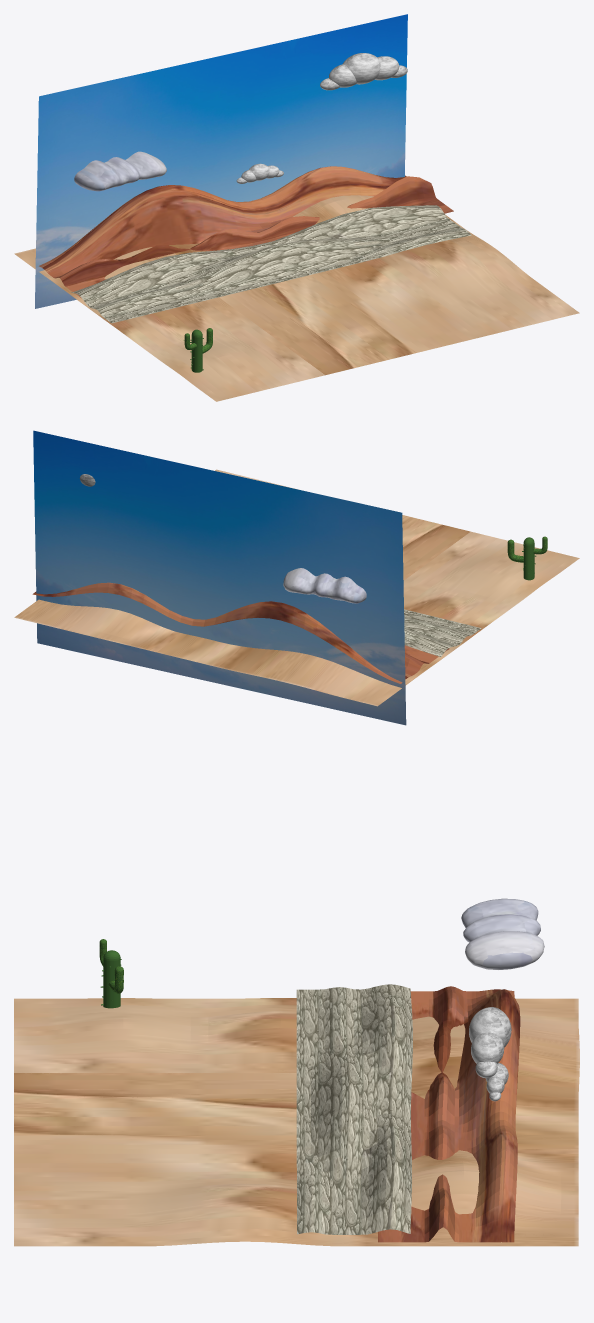
File: desierto protipo (2).fbx
The picture shows the model from 3 angles, top to bottom: view 1: azimuth 30°, elevation 25°; view 2: azimuth 150°, elevation 25°; view 3: azimuth 270°, elevation 25°; orthographic projection. The views are drawn at different scales.
Parts seen in each view (by area): view 1: Plane.001, Plane, Plane.002, Plane.003, Mball.010, Sphere.002, NurbsPath.002, Sphere.001; view 2: Plane.001, Plane, Plane.002, Plane.003, Mball.010, NurbsPath.002; view 3: Plane, Plane.003, Plane.002, Mball.010, Sphere.002, NurbsPath.002.
Boxes of the visible parts, bbox=[...] form: Plane.001: bbox=[35, 14, 407, 308]; Plane: bbox=[14, 195, 579, 401]; Plane.002: bbox=[39, 166, 453, 298]; Plane.003: bbox=[71, 205, 471, 323]; Mball.010: bbox=[74, 151, 166, 191]; Sphere.002: bbox=[320, 53, 407, 90]; NurbsPath.002: bbox=[183, 328, 212, 372]; Sphere.001: bbox=[236, 163, 283, 183]; Plane.001: bbox=[33, 430, 406, 725]; Plane: bbox=[14, 469, 579, 706]; Plane.002: bbox=[32, 582, 449, 683]; Plane.003: bbox=[404, 609, 481, 656]; Mball.010: bbox=[283, 568, 366, 603]; NurbsPath.002: bbox=[507, 536, 547, 580]; Plane: bbox=[14, 998, 579, 1246]; Plane.003: bbox=[296, 984, 412, 1234]; Plane.002: bbox=[378, 986, 520, 1242]; Mball.010: bbox=[461, 898, 544, 969]; Sphere.002: bbox=[469, 1007, 511, 1078]; NurbsPath.002: bbox=[99, 939, 123, 1008].
Bounding box in the file's own units: 1725 × 970 × 1625.
